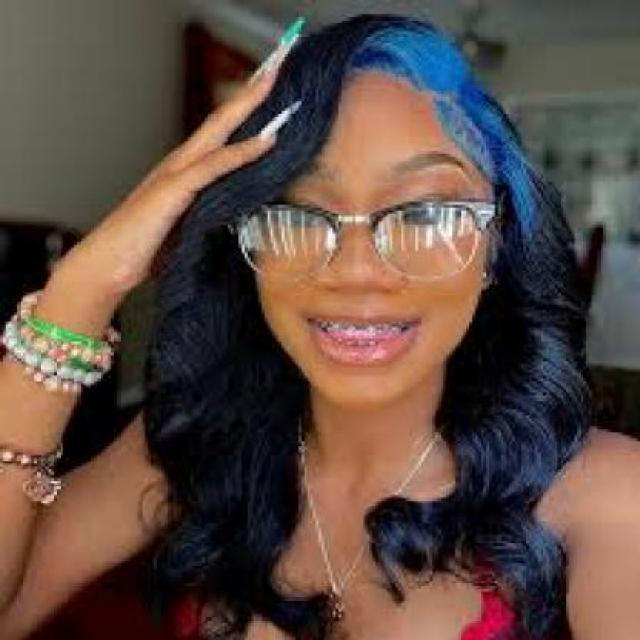mask: (223, 167, 504, 315)
